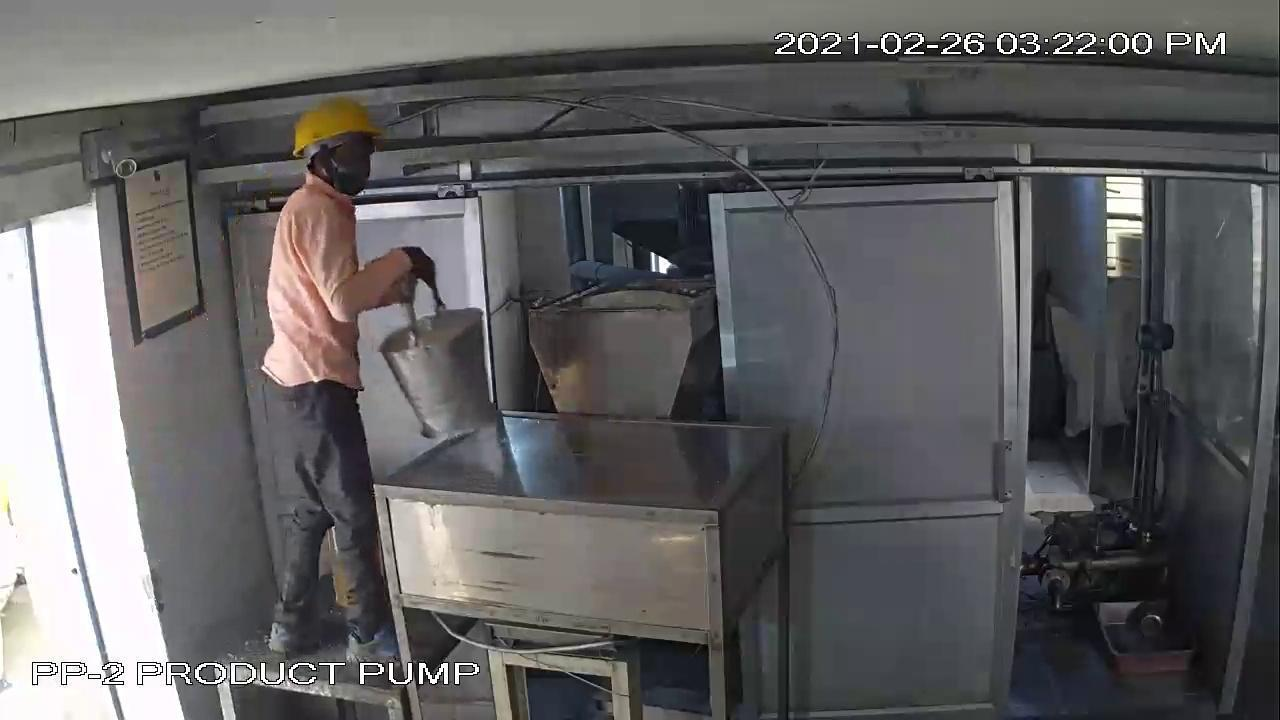helmet: (285, 98, 384, 165)
